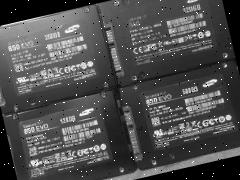electronic: (112, 53, 240, 179), (96, 0, 237, 96), (2, 84, 140, 180), (0, 2, 119, 113)
